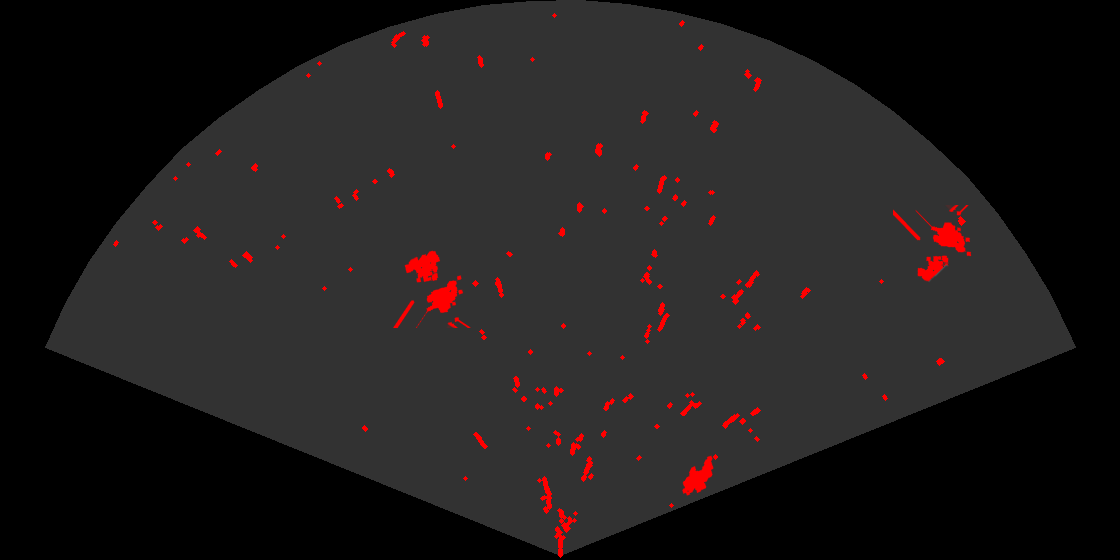AUV: (681, 454, 715, 497)
cage: (392, 249, 472, 328), (893, 205, 973, 283)
